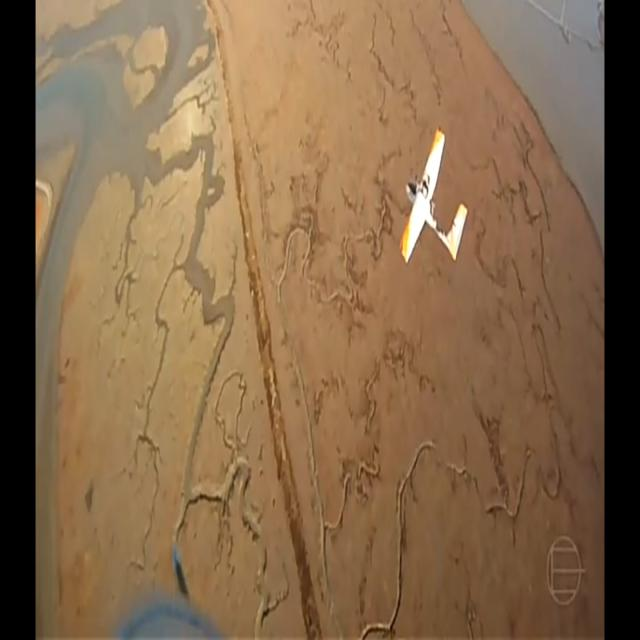iha: (431, 126, 437, 267)
